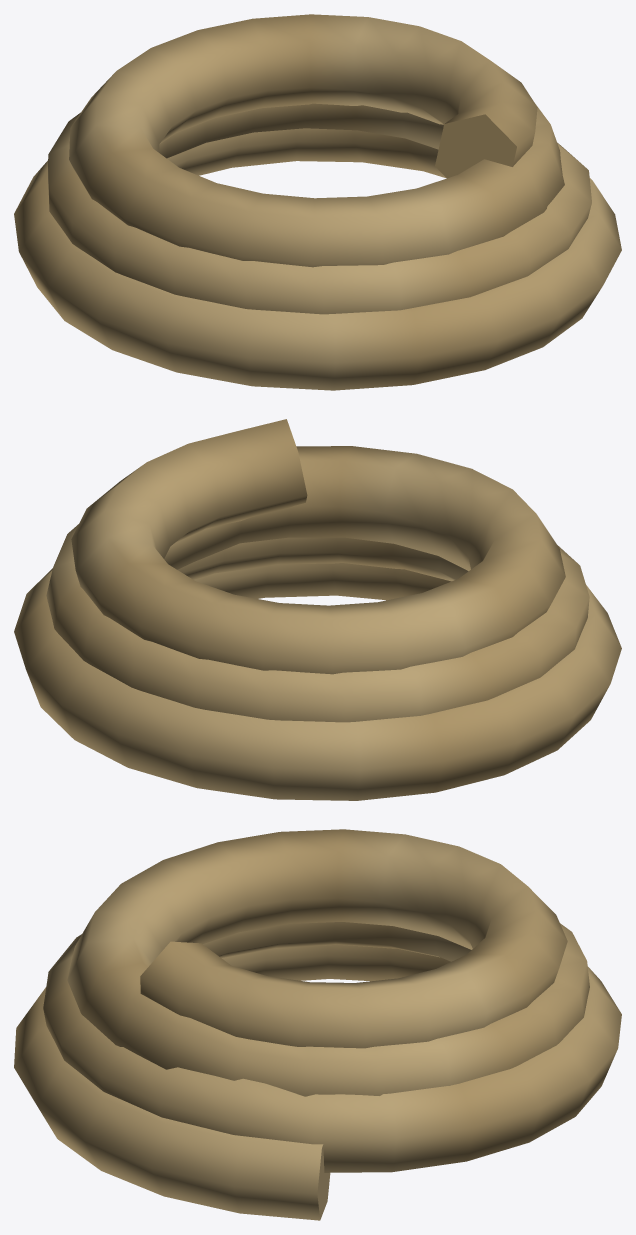
Rendered from rope.glb.
3 views of the same model, one above another, from view 1: azimuth 30°, elevation 25°; view 2: azimuth 150°, elevation 25°; view 3: azimuth 270°, elevation 25° (orthographic). The views are drawn at different scales.
Visible parts, largest first — view 1: rope; view 2: rope; view 3: rope.
Part boxes in pixels (bbox=[...]): rope: bbox=[14, 14, 621, 390]; rope: bbox=[14, 419, 621, 800]; rope: bbox=[14, 829, 621, 1220].
Bounding box in the file's own units: 0.297 × 0.1064 × 0.2889.
